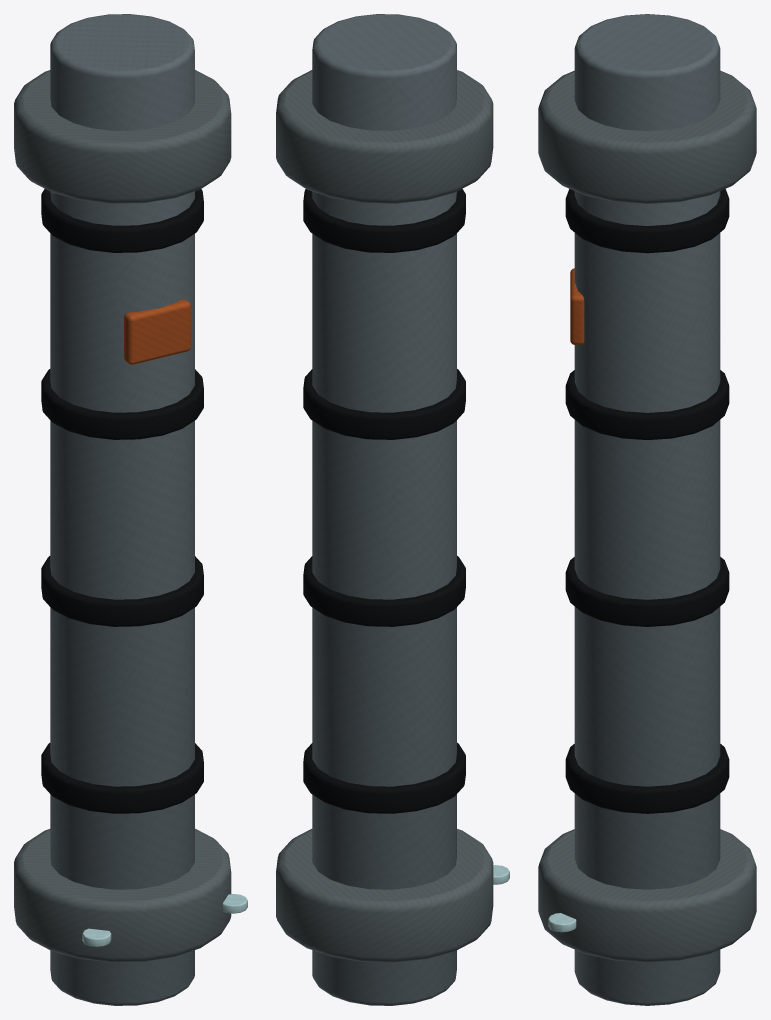
The model's file is PipeSegment.fbx.
The picture shows the model from 3 angles, left to right: view 1: azimuth 30°, elevation 25°; view 2: azimuth 150°, elevation 25°; view 3: azimuth 270°, elevation 25°; orthographic projection.
Visible parts, largest first — view 1: PipeSegment_Mesh; view 2: PipeSegment_Mesh; view 3: PipeSegment_Mesh.
Part boxes in pixels (x1,y1,x2,y2): PipeSegment_Mesh: (14, 14, 247, 1005); PipeSegment_Mesh: (276, 14, 509, 1005); PipeSegment_Mesh: (538, 14, 756, 1005).
Bounding box in the file's own units: 36 × 170 × 36.
